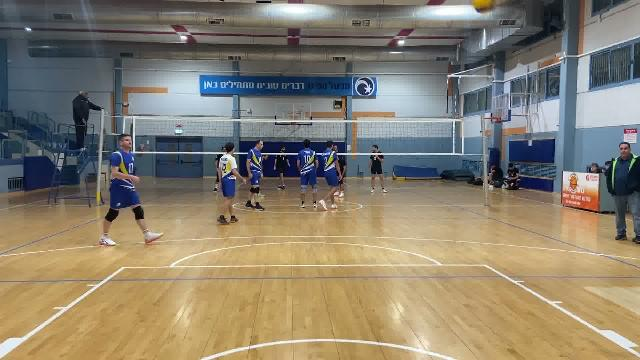ball: (471, 0, 501, 15)
